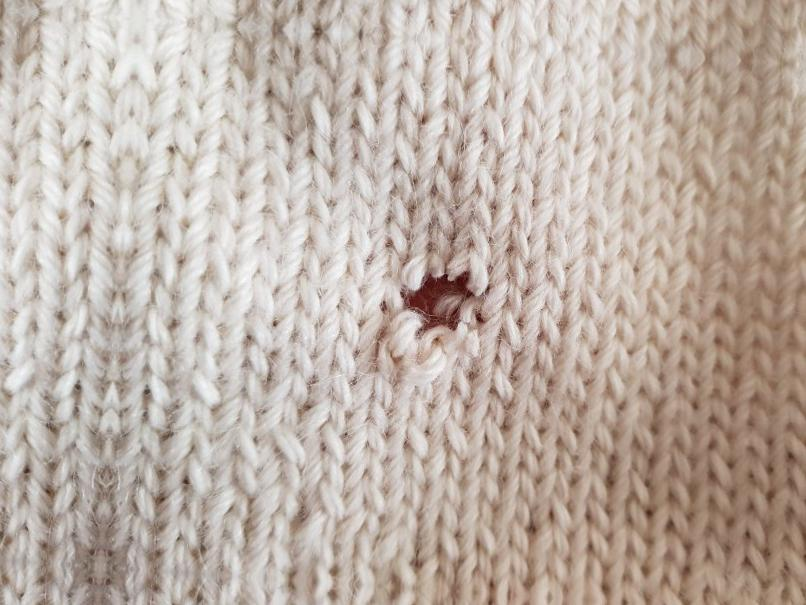hole: (384, 263, 497, 347)
